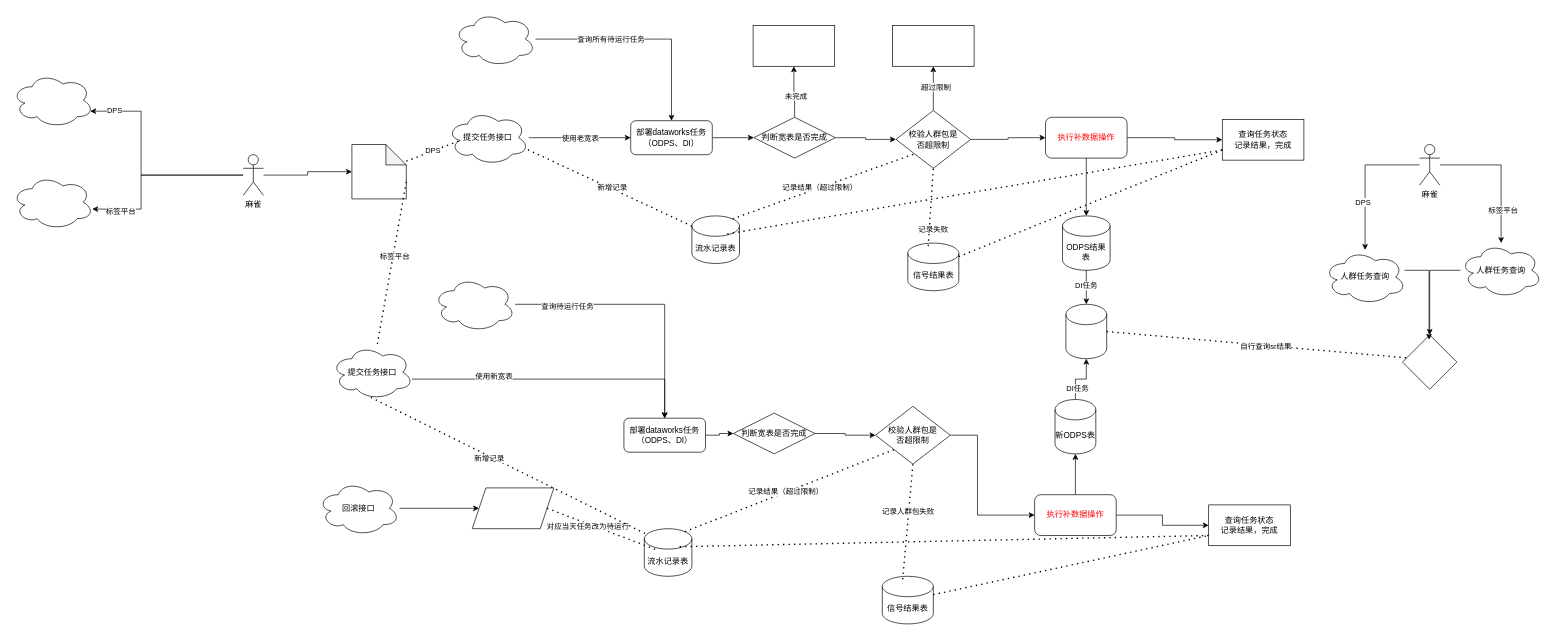
Some shapes in this 1554 by 636 pixel diagram are drawn without their labels. Each missing label, with the centre of its shape:
SR结果表: the point at 1086,331
修改APOLLO 宽表名: the point at 513,508
宽表完成， 触发接口: the point at 494,38
执行成功: the point at 1429,361
拼接圈选SQL: the point at 378,171
新元数据接口: the point at 52,202
新宽表完成， 触发接口: the point at 474,304
结束: the point at 933,45
结束，等待宽表完成，异步触发任务: the point at 793,45
老元数据接口: the point at 52,100
